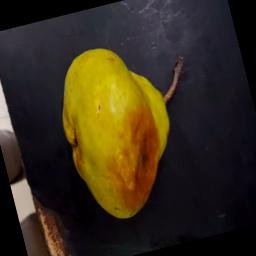Pear Rotten: (38, 16, 224, 236)
